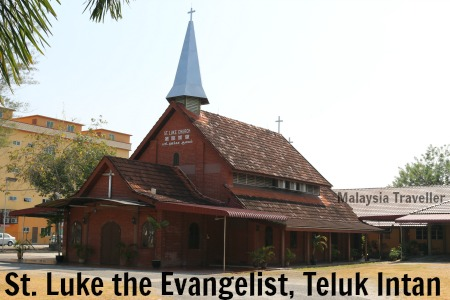Church: (58, 4, 363, 268)
